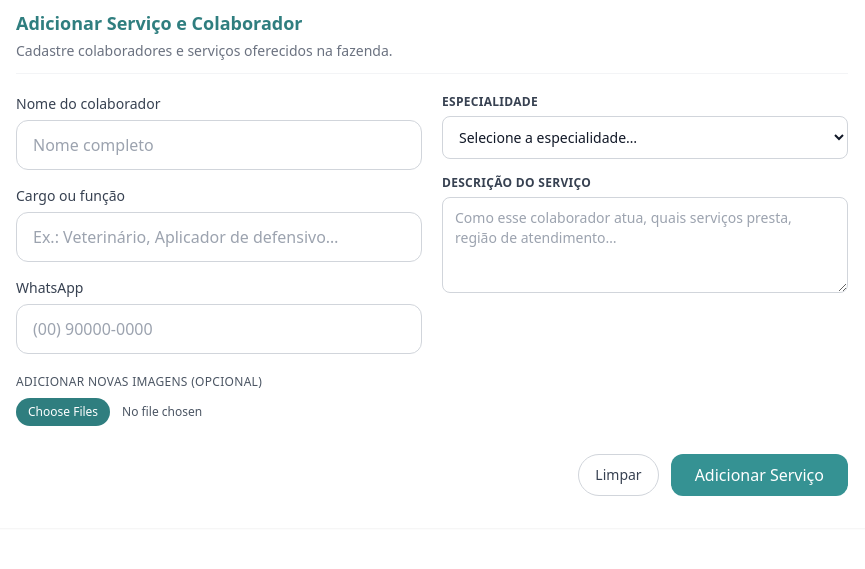
Test: ServiceFormUnificado › se o backend retornar 401/403 sem message, deve exibir mensagem de permissão padrão
Type "João" into the field labelled "Nome do colaborador". click: (219, 145)
box: [16,120,422,170]
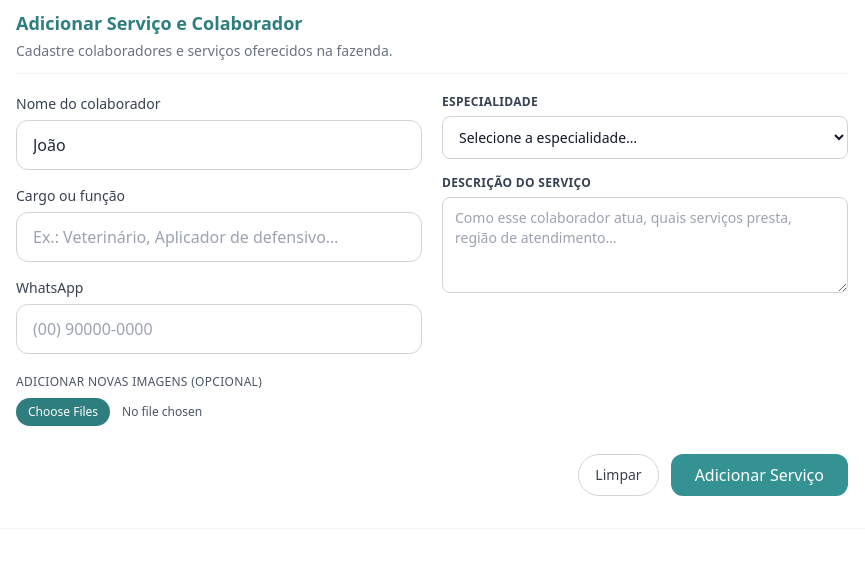
Type "31999991111" into the field labelled "WhatsApp". click: (219, 329)
box: [16,304,422,354]
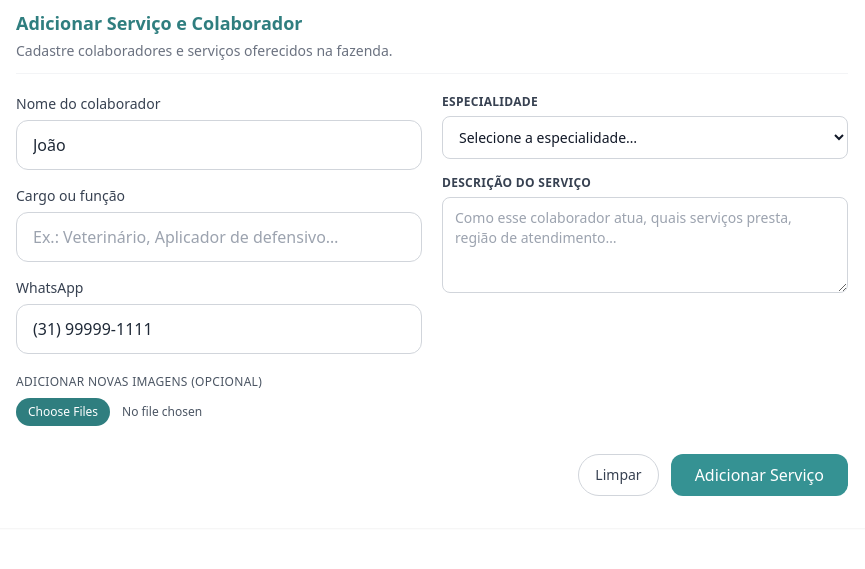
Select "Bovinos" in the dropdown. click: (645, 138)
box: [442,116,848,159]
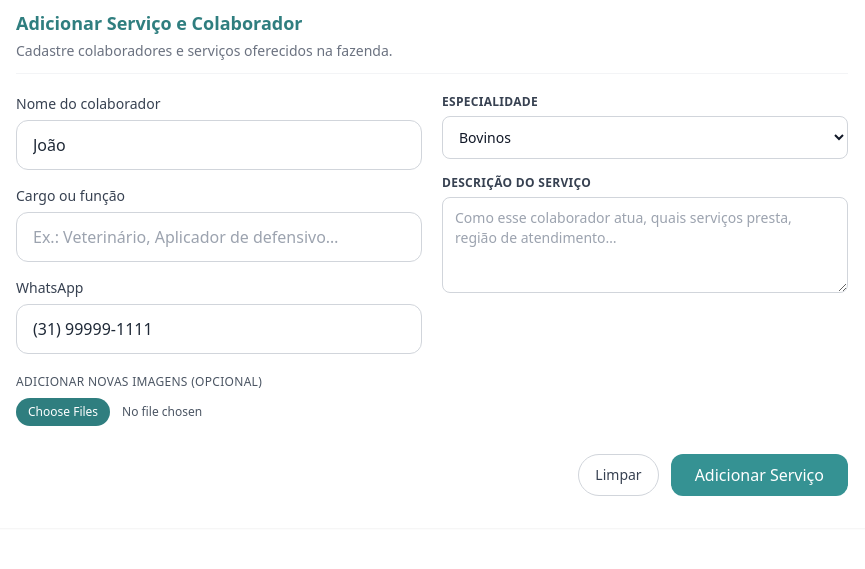
Click the button "Adicionar Serviço". click: (759, 475)
box: [671,454,848,496]
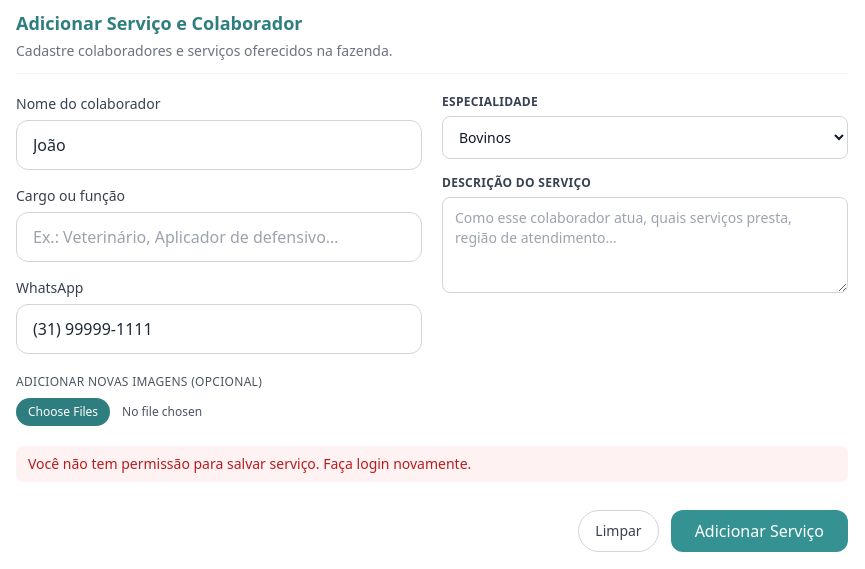
expect the text "Você não tem permissão para salvar serviço. Faça login novamente." is shown: met, box [16,446,848,482]
